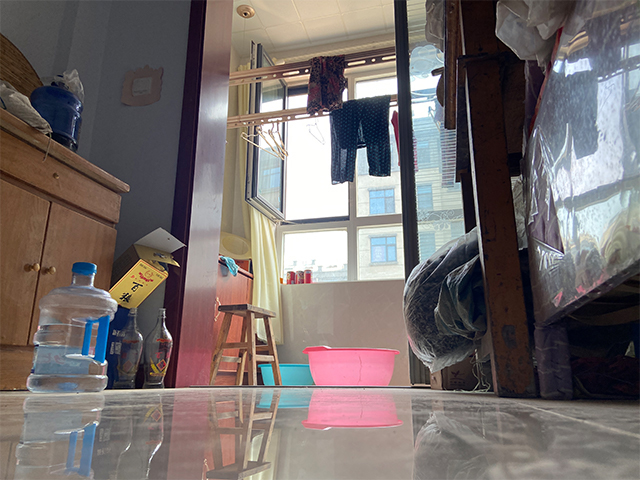cabinet: (1, 105, 131, 393)
stool: (207, 303, 283, 387)
